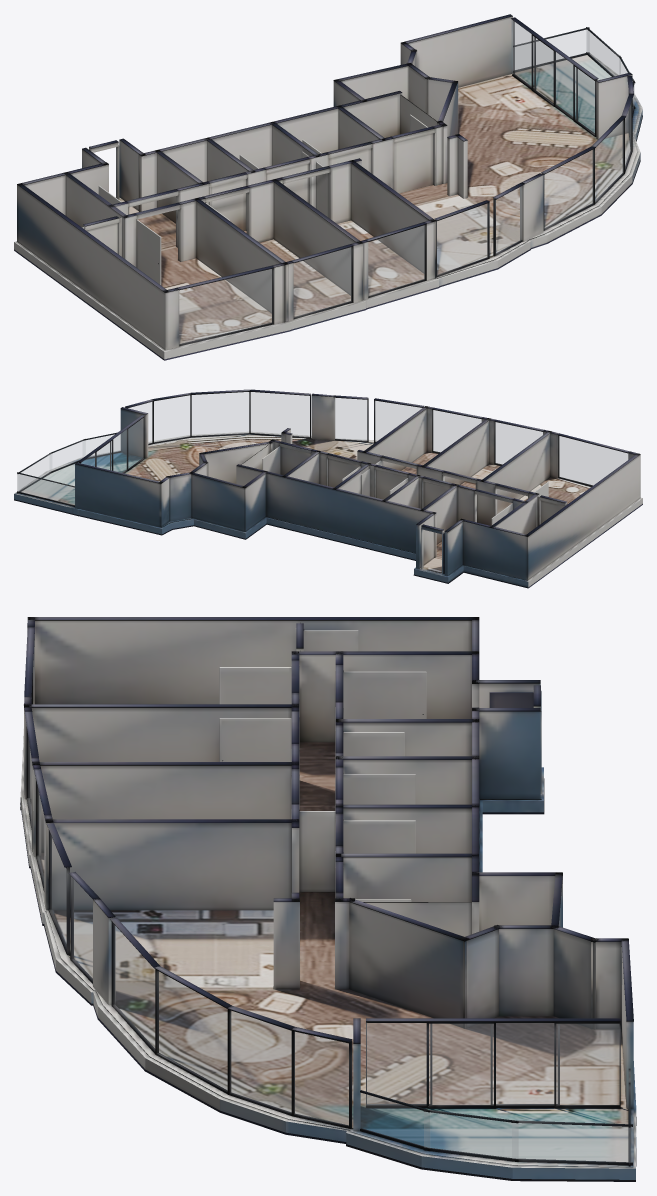
3 renders of one model, top to bottom at view 1: azimuth 30°, elevation 25°; view 2: azimuth 150°, elevation 25°; view 3: azimuth 270°, elevation 25°, orthographic. The views are drawn at different scales.
Visible parts, largest first — view 1: plan, glass1_m, glass0_m, glass2_m, glass3_m, glass4_m, glass6_m, glass7_m, railg0_m, glass5_m, railg1_m; view 2: plan, glass6_m, glass7_m, glass1_m, glass0_m, glass8_m, glass5_m, glass3_m, glass2_m, railg0_m, glass4_m, railg2_m (+3 smaller); view 3: plan, glass0_m, glass7_m, glass8_m, glass9_m, railg1_m, railg2_m, glass6_m, railg3_m, glass5_m, glass4_m.
Part boxes in pixels (bbox=[...]): plan: bbox=[14, 14, 642, 360]; glass1_m: bbox=[179, 269, 272, 343]; glass0_m: bbox=[513, 21, 594, 133]; glass2_m: bbox=[294, 247, 351, 316]; glass3_m: bbox=[368, 225, 424, 295]; glass4_m: bbox=[437, 204, 487, 274]; glass6_m: bbox=[544, 150, 593, 227]; glass7_m: bbox=[595, 120, 623, 201]; railg0_m: bbox=[515, 30, 588, 69]; glass5_m: bbox=[496, 186, 521, 253]; railg1_m: bbox=[587, 30, 620, 75]; plan: bbox=[14, 389, 642, 588]; glass6_m: bbox=[251, 392, 309, 436]; glass7_m: bbox=[192, 392, 248, 435]; glass1_m: bbox=[559, 436, 627, 485]; glass0_m: bbox=[81, 418, 143, 472]; glass8_m: bbox=[154, 395, 189, 442]; glass5_m: bbox=[335, 398, 366, 440]; glass3_m: bbox=[433, 410, 481, 452]; glass2_m: bbox=[495, 422, 542, 464]; railg0_m: bbox=[17, 474, 74, 504]; glass4_m: bbox=[375, 401, 421, 441]; railg2_m: bbox=[50, 441, 84, 471]; plan: bbox=[20, 617, 636, 1181]; glass0_m: bbox=[366, 1023, 619, 1105]; glass7_m: bbox=[158, 971, 227, 1090]; glass8_m: bbox=[230, 1010, 291, 1112]; glass9_m: bbox=[294, 1032, 348, 1125]; railg1_m: bbox=[512, 1123, 632, 1162]; railg2_m: bbox=[424, 1112, 518, 1158]; glass6_m: bbox=[114, 925, 154, 1049]; railg3_m: bbox=[361, 1093, 429, 1148]; glass5_m: bbox=[72, 878, 92, 979]; glass4_m: bbox=[50, 834, 66, 946].
Size of the model in its own units: 25.71 by 2.62 by 14.4.
Materials: 2 (1 with a texture image).
